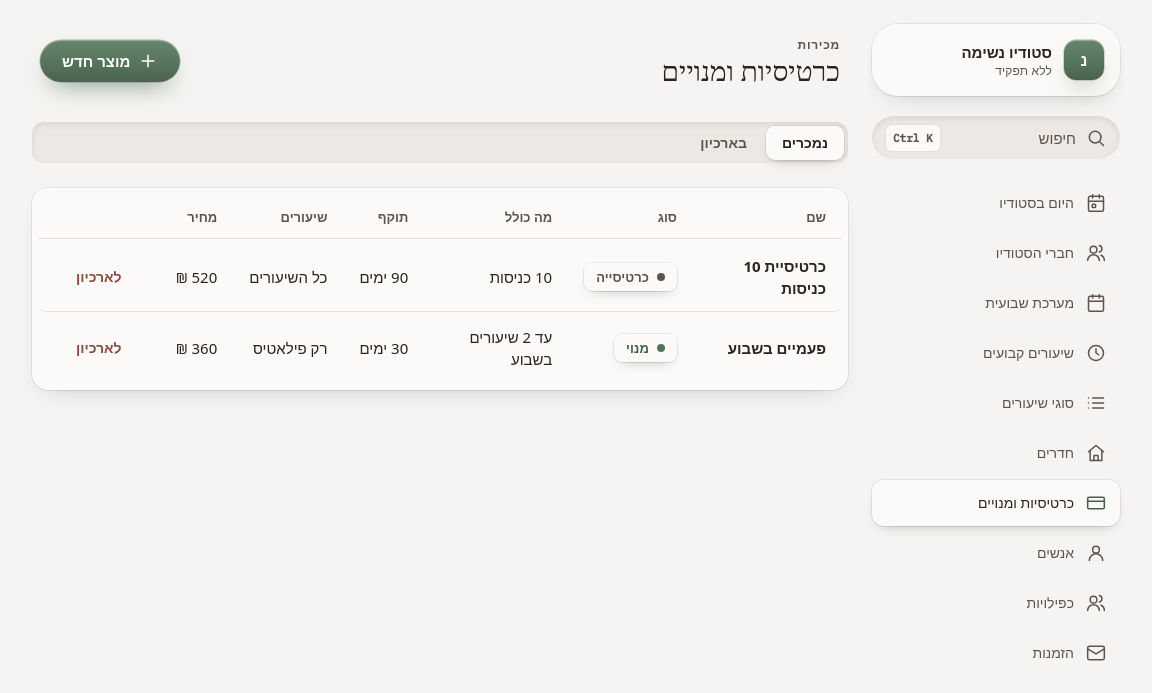
Test case: pass products › adds a membership with a weekly cap, limited to one category
This screenshot has width=1152, height=693.
Click the button "מוצר חדש": (110, 61) [40,40,180,82]
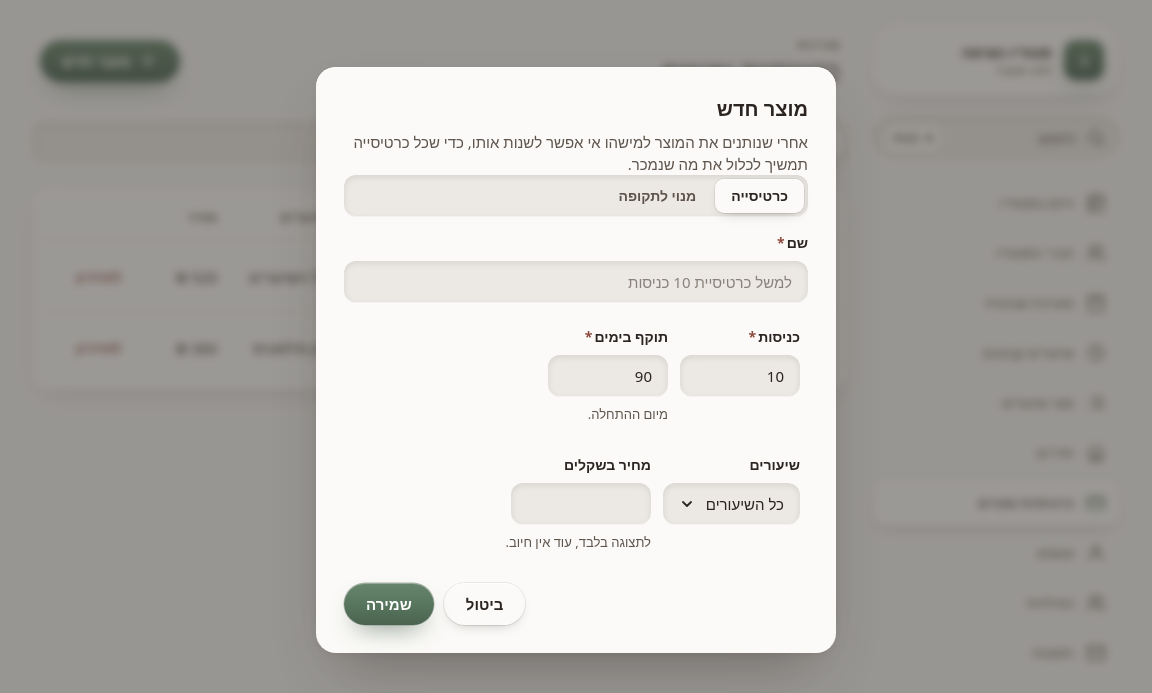
Click the button "מנוי לתקופה": (657, 196) [602,179,712,213]
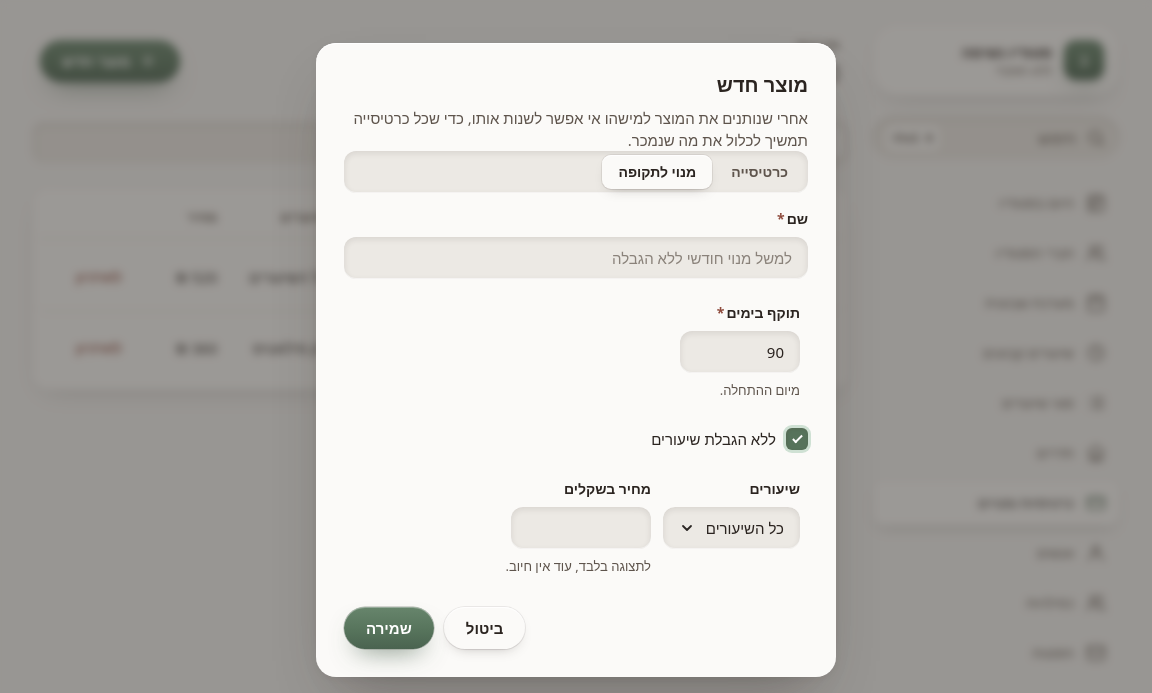
In the field labelled "שם*": (576, 258) [344,237,808,279], type "פעמיים בשבוע"
Replace the text in the field labelled "תוקף בימים*" with "30": (740, 352) [680,331,800,373]
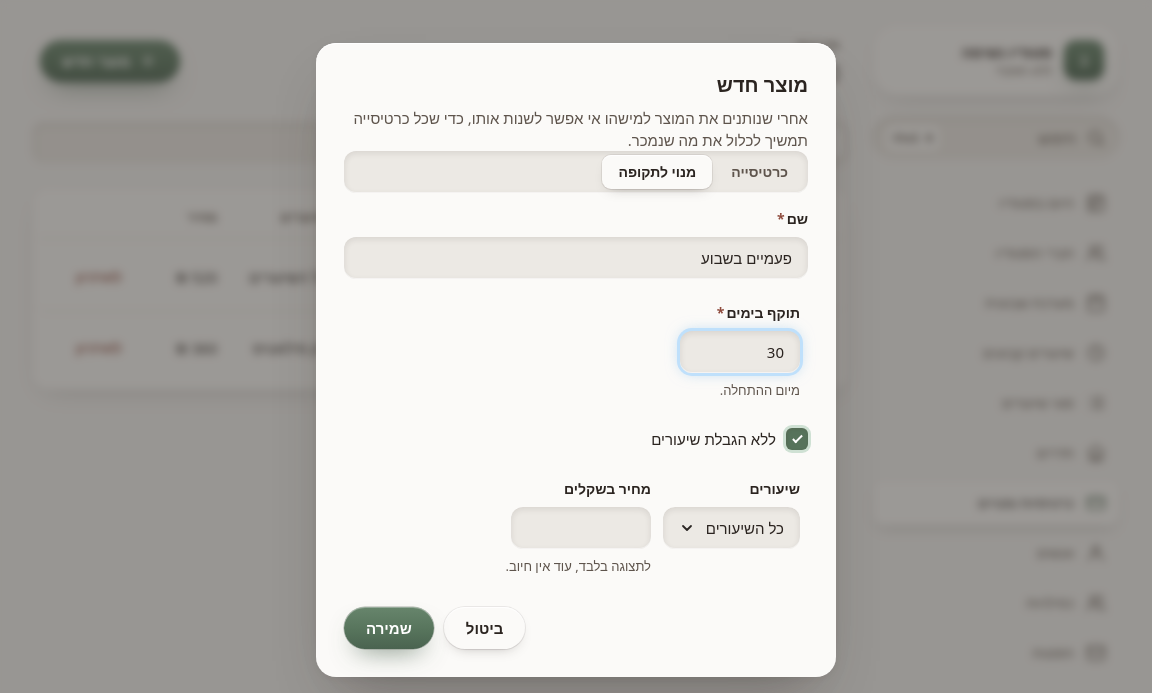
Click the checkbox labelled "ללא הגבלת שיעורים": (797, 439) [786,428,808,450]
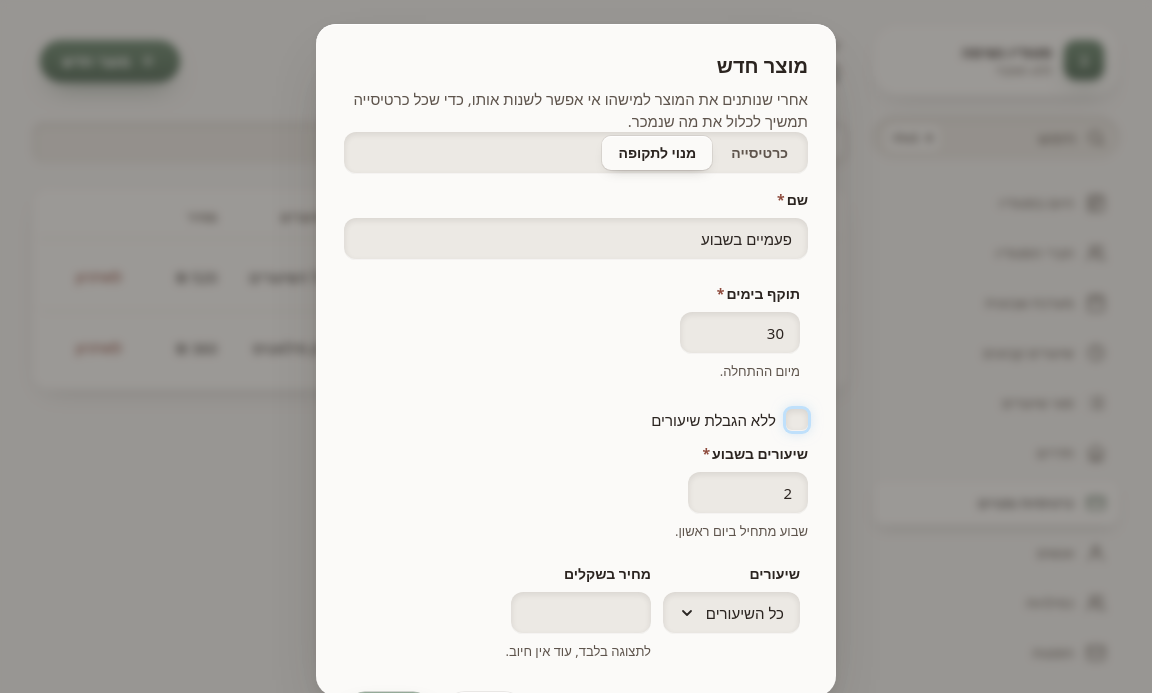
Select "רק פילאטיס" in the dropdown labelled "שיעורים": (732, 613) [663,592,800,634]
(page scrolled)
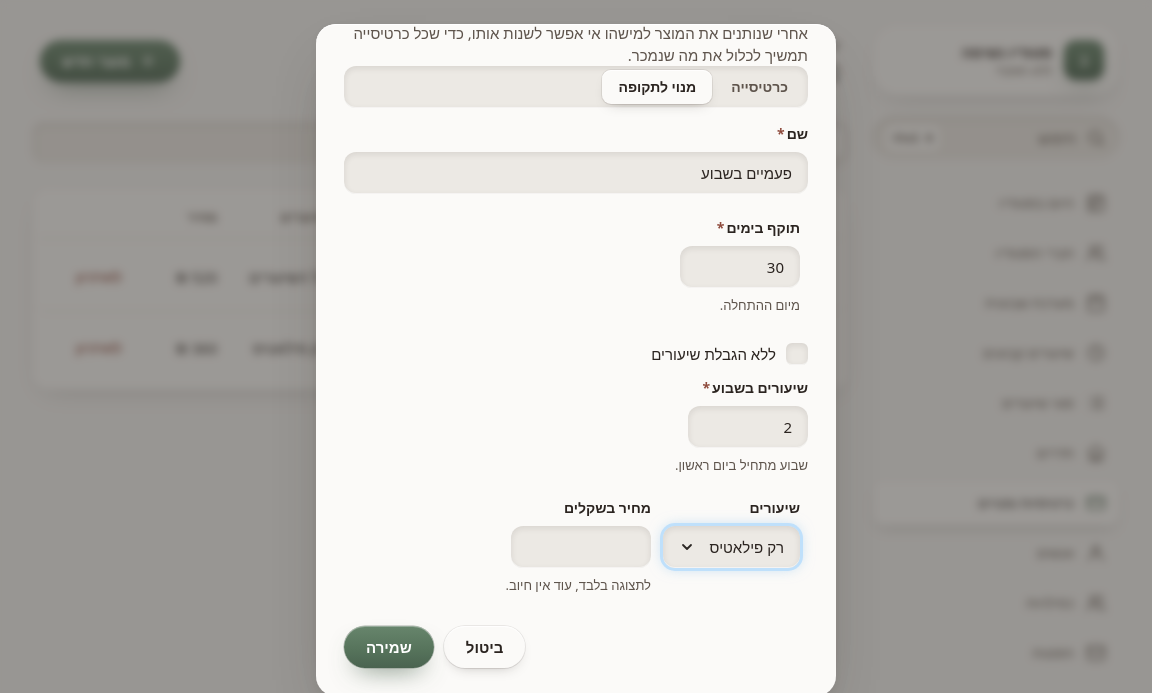
Click the button "שמירה": (389, 647) [344,626,434,668]
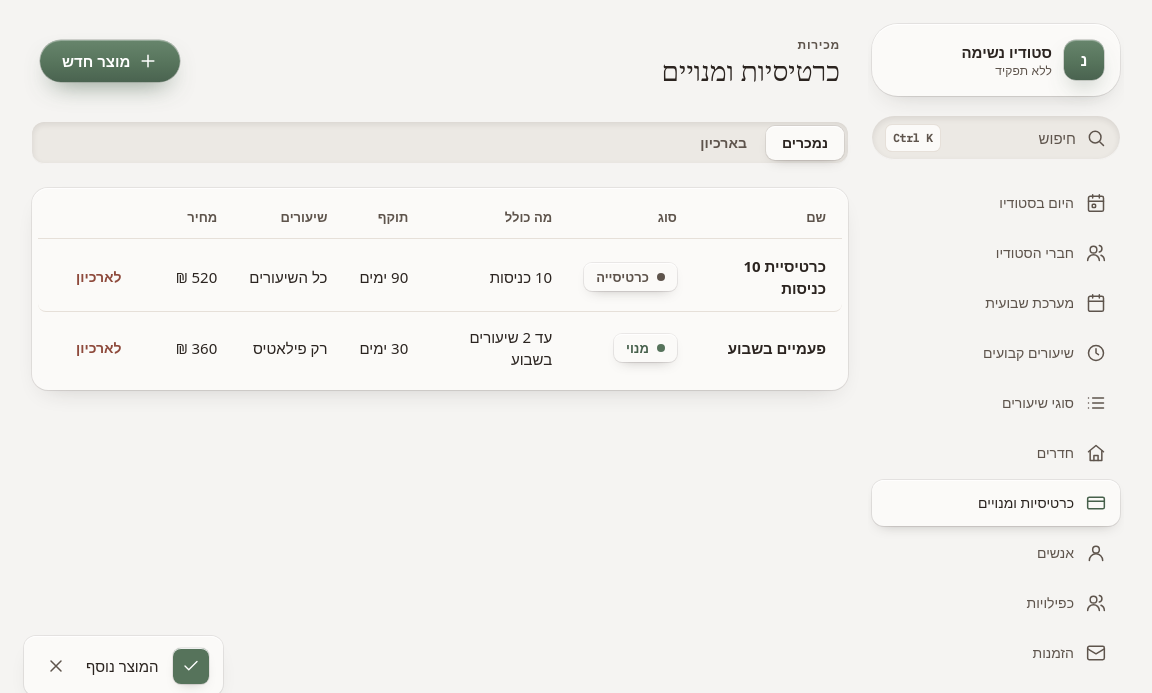
expect the text "המוצר נוסף" is shown: met, box [86,655,159,677]
